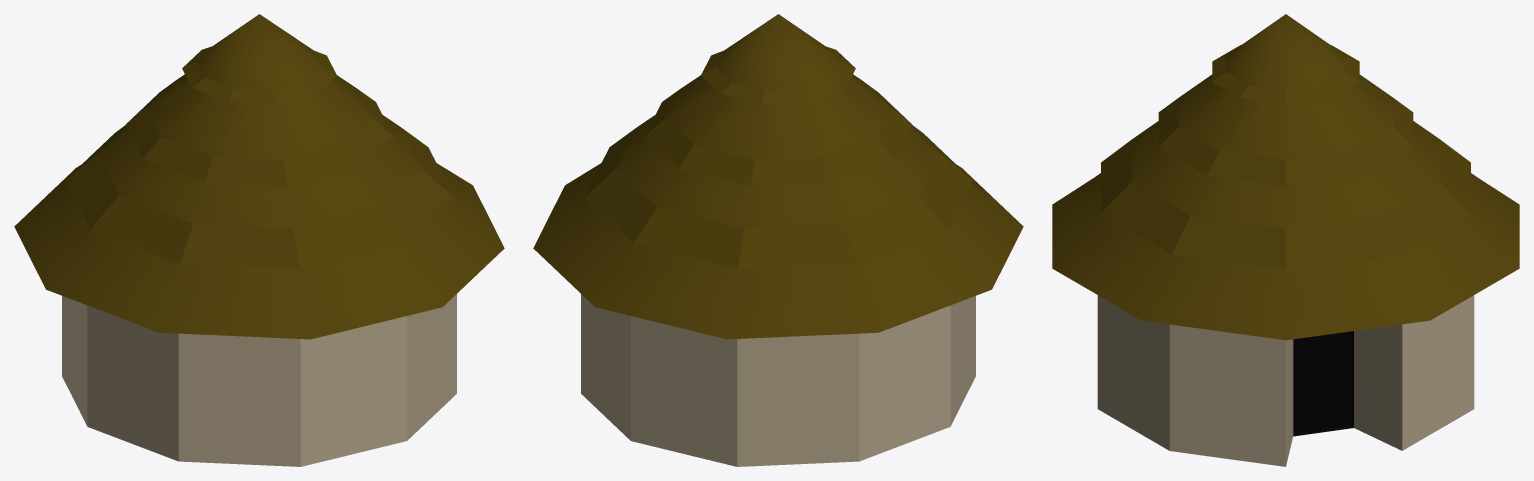
The model's file is Hut.fbx.
The picture shows the model from 3 angles, left to right: view 1: azimuth 30°, elevation 25°; view 2: azimuth 150°, elevation 25°; view 3: azimuth 270°, elevation 25°; orthographic projection.
Visible parts, largest first — view 1: pCylinder5; view 2: pCylinder5; view 3: pCylinder5.
Boxes of the visible parts, box(x1,y1,x2,y2) form: pCylinder5: box(14, 14, 504, 466); pCylinder5: box(533, 14, 1023, 466); pCylinder5: box(1052, 14, 1519, 466).
Size of the model in its own units: 737 by 612 by 701.
